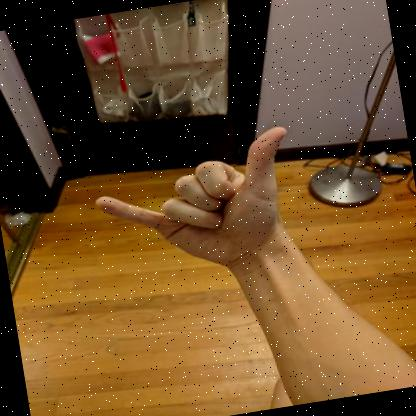Y: (96, 123, 297, 279)
